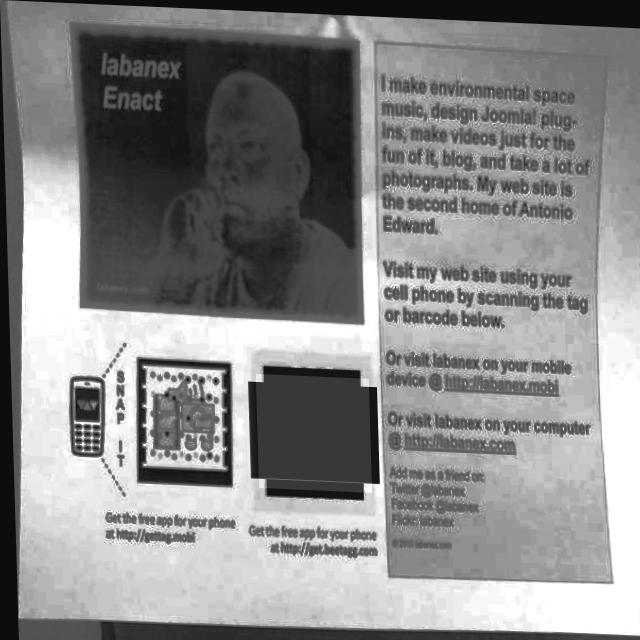qr_code: (253, 372, 369, 490)
